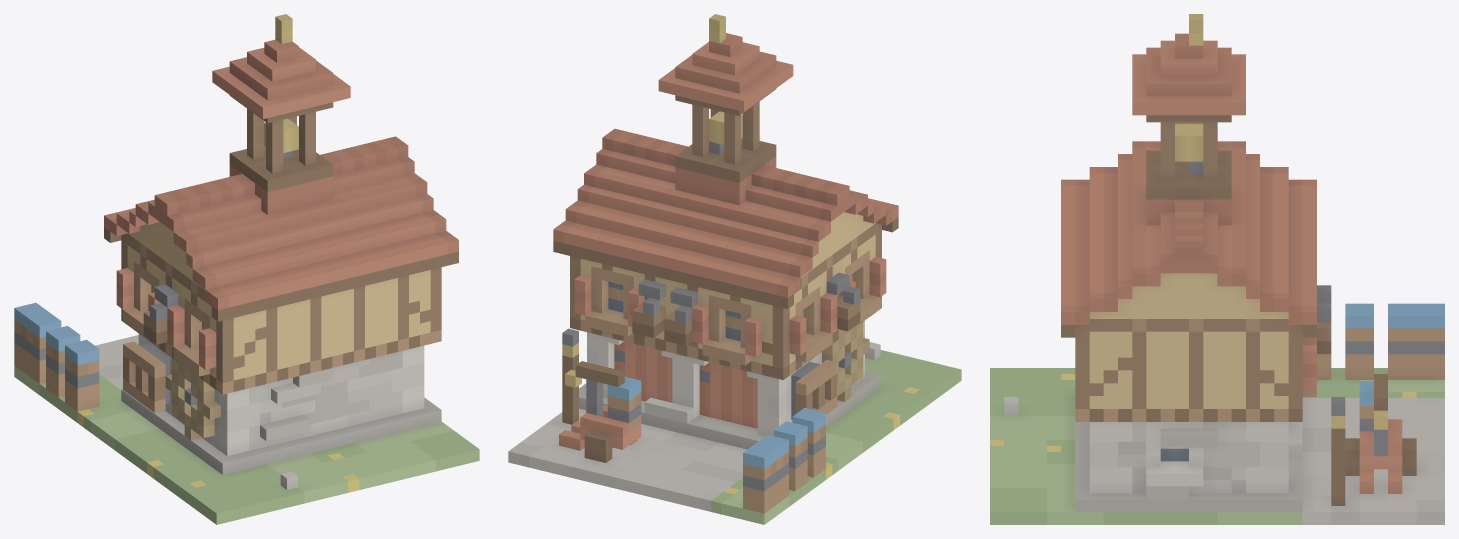
The model's file is fire_station.glb.
3 renders of one model, left to right at view 1: azimuth 30°, elevation 25°; view 2: azimuth 150°, elevation 25°; view 3: azimuth 270°, elevation 25°, orthographic. The views are drawn at different scales.
Visible parts, largest first — view 1: fire_station; view 2: fire_station; view 3: fire_station.
Boxes of the visible parts, x1,y1,x2,y2 form: fire_station: [14, 14, 479, 524]; fire_station: [508, 14, 961, 524]; fire_station: [990, 14, 1444, 524].
Size of the model in its own units: 3.12 by 4.38 by 4.
